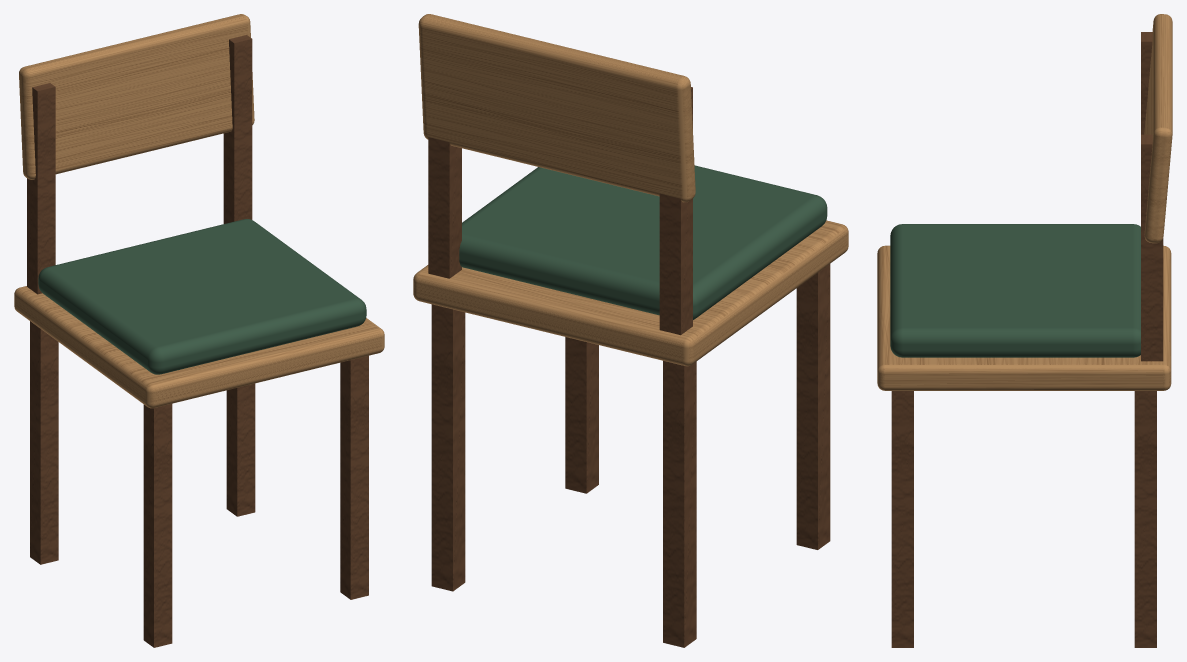
The model's file is noi-that-ghe-an.glb.
3 renders of one model, left to right at view 1: azimuth 30°, elevation 25°; view 2: azimuth 150°, elevation 25°; view 3: azimuth 270°, elevation 25°, orthographic. The views are drawn at different scales.
Size of the model in its own units: 0.46 by 0.8999 by 0.462.
3 materials, 2 textured.
